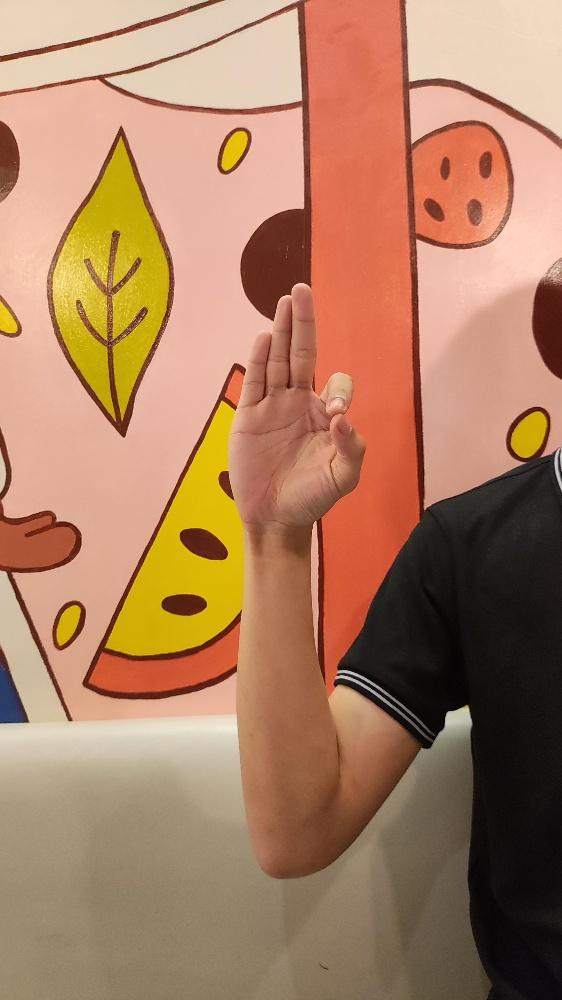f: (225, 280, 367, 536)
